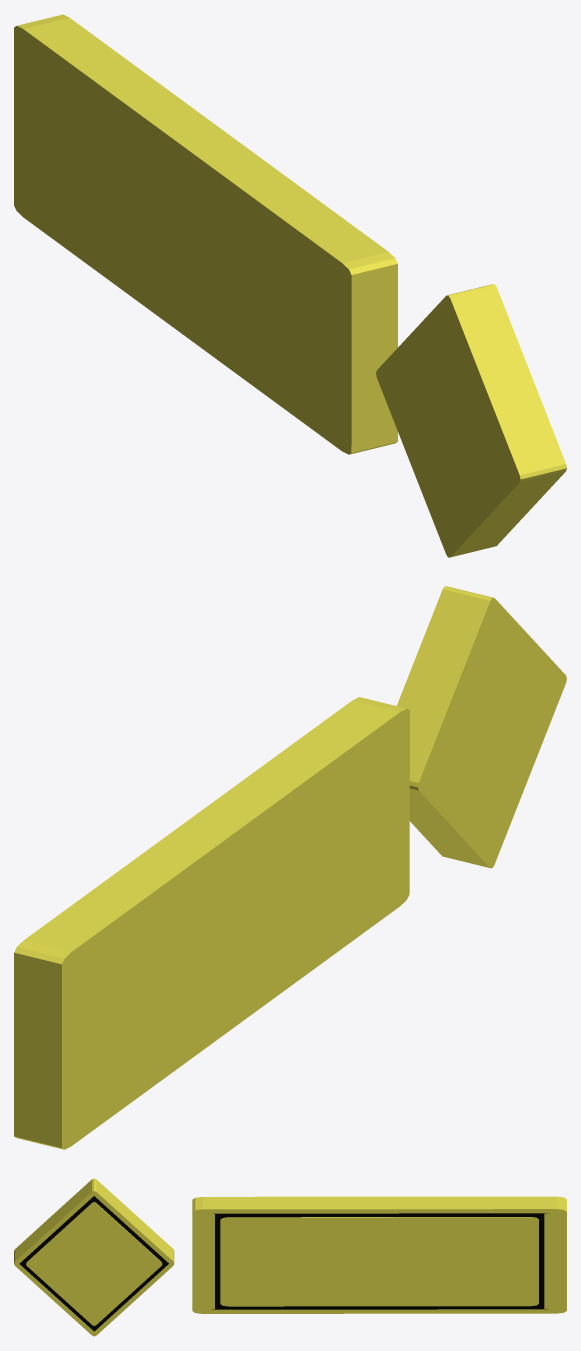
The model's file is señal 1.fbx.
3 renders of one model, top to bottom at view 1: azimuth 30°, elevation 25°; view 2: azimuth 150°, elevation 25°; view 3: azimuth 270°, elevation 25°, orthographic. The views are drawn at different scales.
Visible parts, largest first — view 1: Cube.004, Cube.001; view 2: Cube.004, Cube.001; view 3: Cube.003, Cube.004, Cube.002, Cube.001.
Part boxes in pixels (box(x1,y1,x2,y2)): Cube.004: box(14, 14, 397, 454); Cube.001: box(376, 284, 566, 557); Cube.004: box(14, 697, 409, 1149); Cube.001: box(397, 586, 566, 868); Cube.003: box(220, 1217, 538, 1306); Cube.004: box(192, 1196, 566, 1313); Cube.002: box(26, 1202, 162, 1325); Cube.001: box(14, 1178, 174, 1336).
Size of the model in its own units: 62.5 by 278 by 959.
